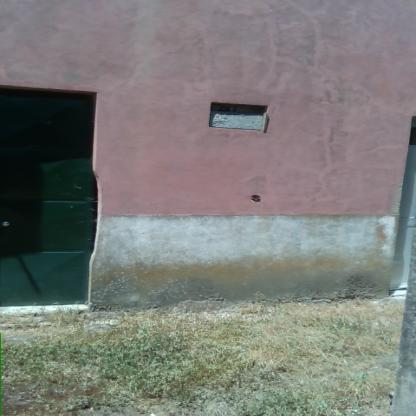closed: (1, 81, 108, 311)
